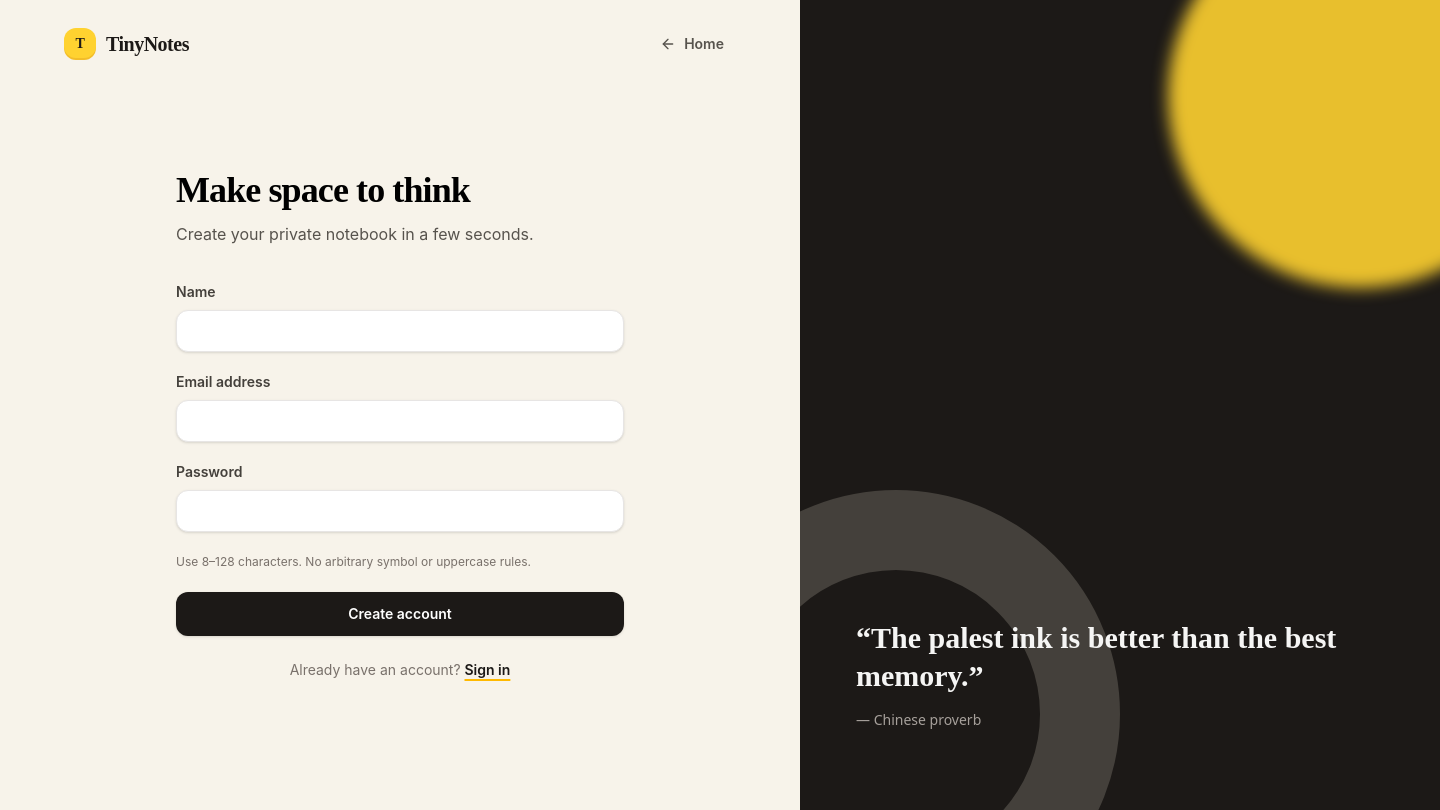
Test: SignUpPage › distinguishes rate limiting from duplicate accounts
The width and height of the screenshot is (1440, 810).
Type "Reader" into the field labelled "Name".
click(400, 331); type("Reader")  # box [176,310,624,352]
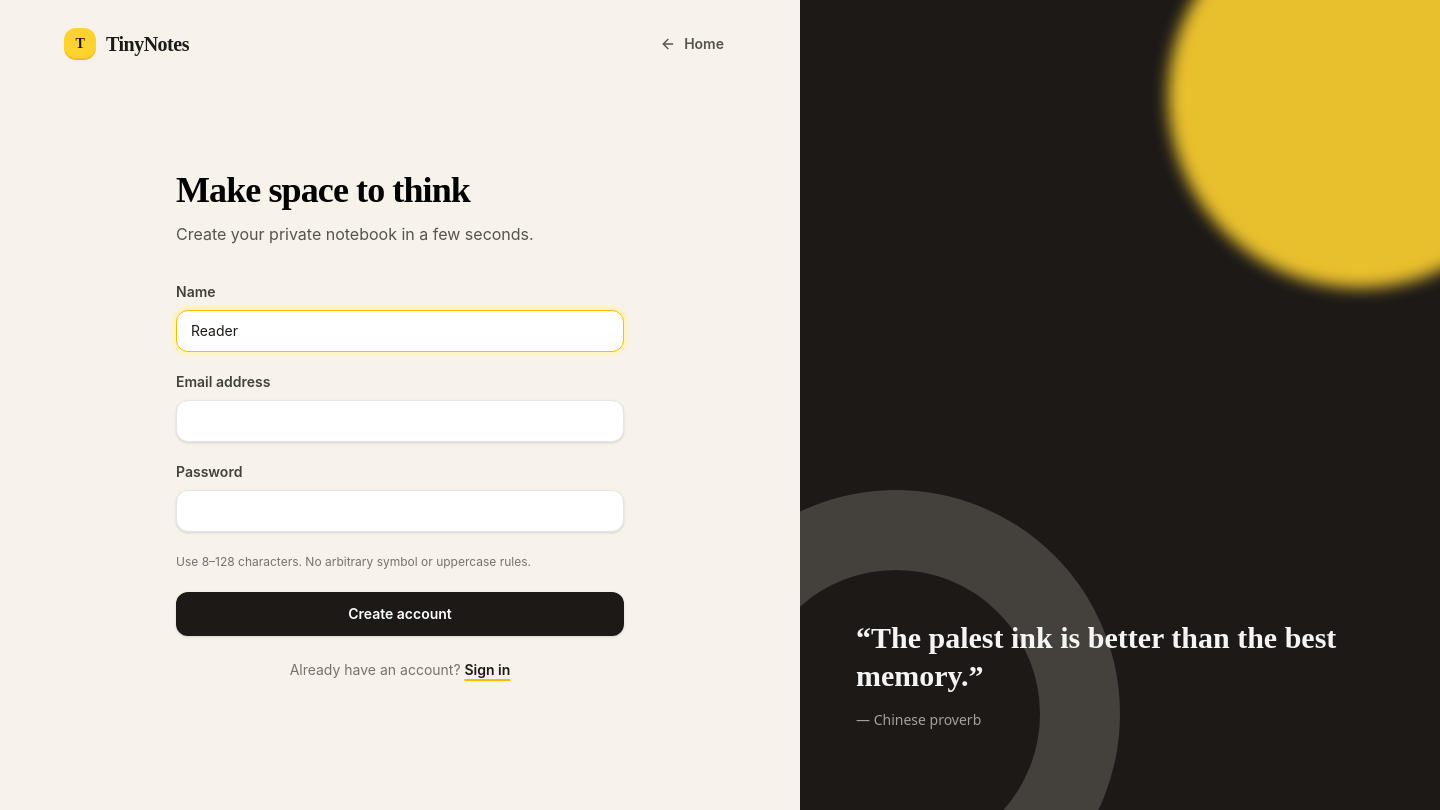
Type "reader@example.com" into the field labelled "Email address".
click(400, 421); type("reader@example.com")  # box [176,400,624,442]
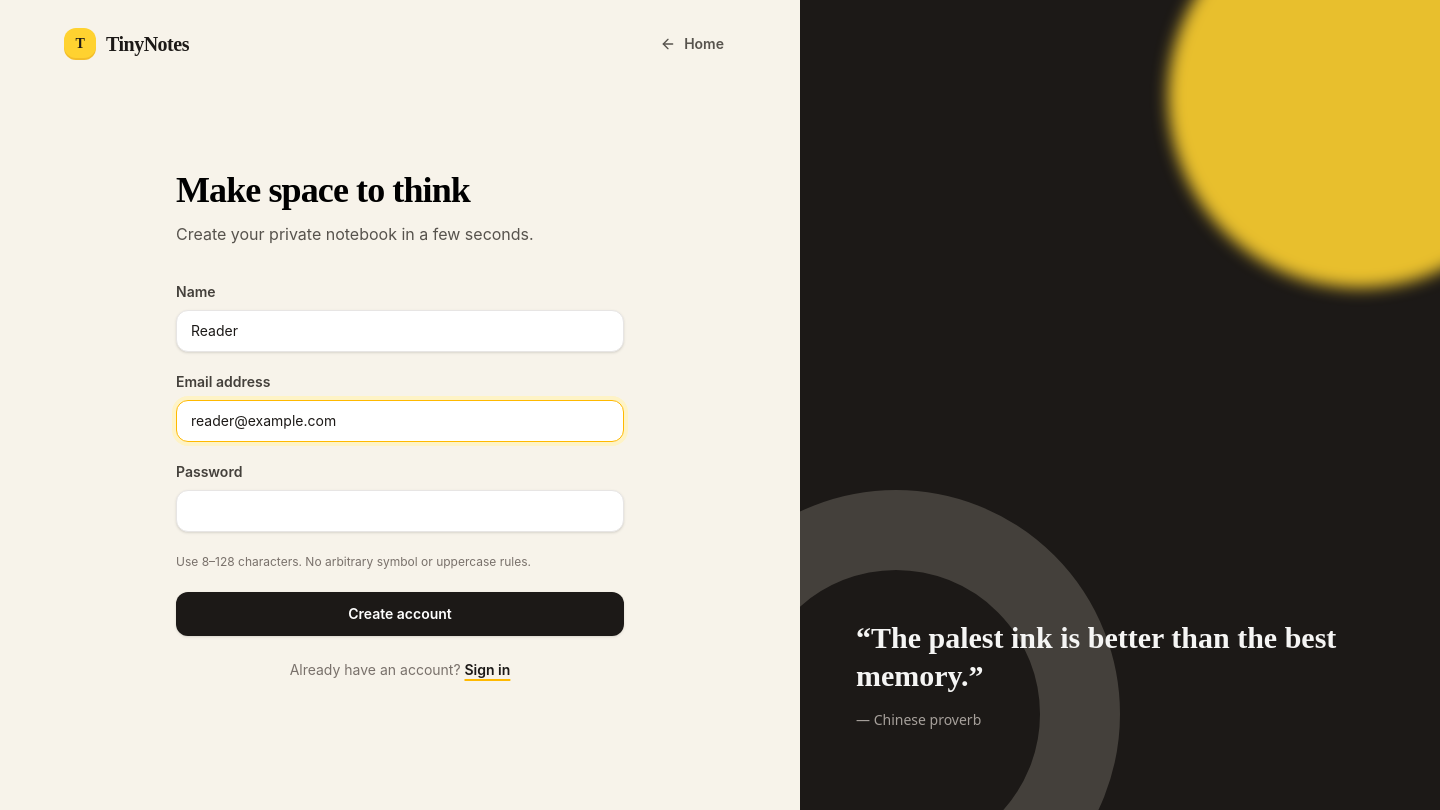
Type "correct-length" into the password field labelled "Password".
click(400, 511); type("correct-length")  # box [176,490,624,532]
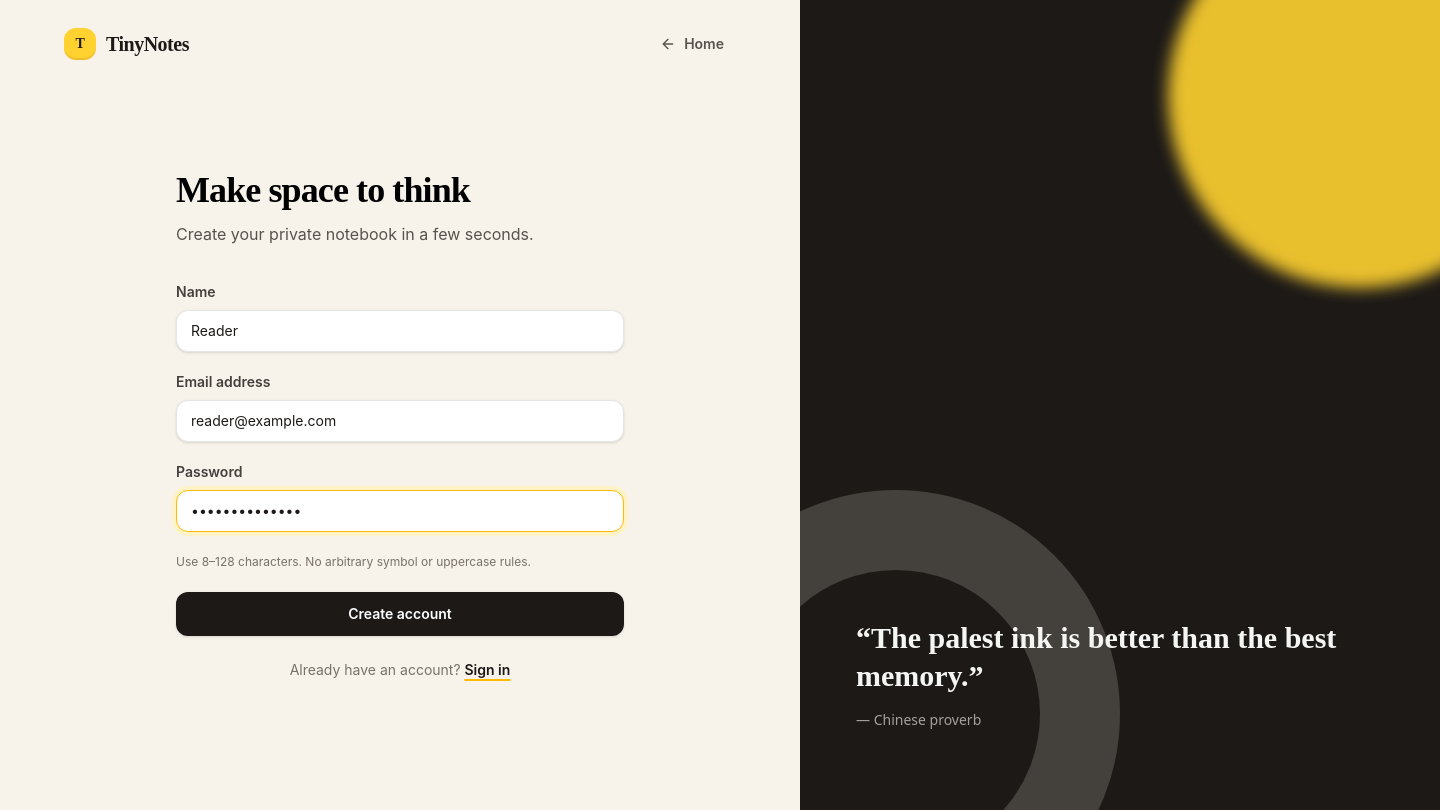
Click the button "Create account".
click(400, 614)  # box [176,592,624,636]
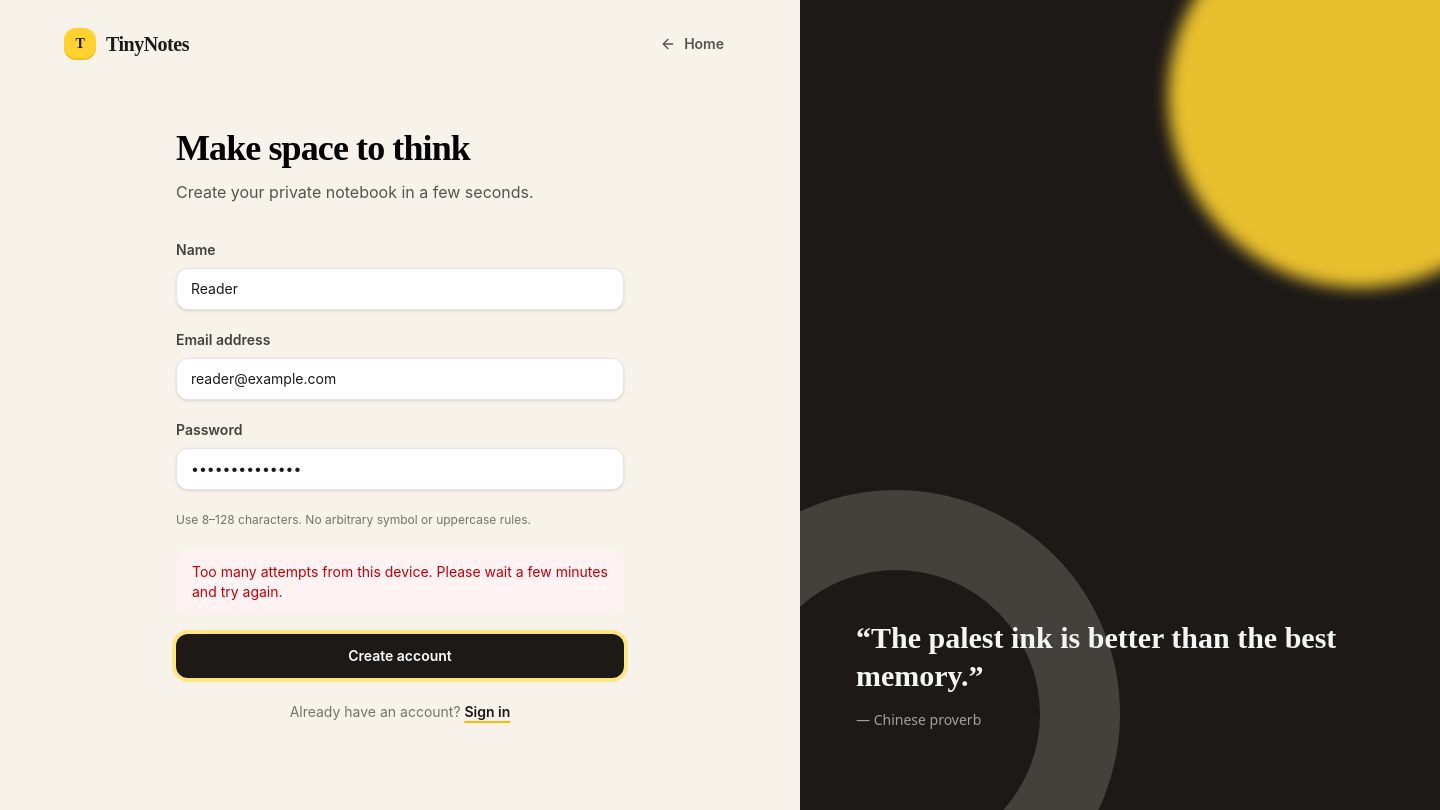
Expected: the message reads "Too many attempts from this device. Please wait a few minutes and try again.", [192,563,608,600]
